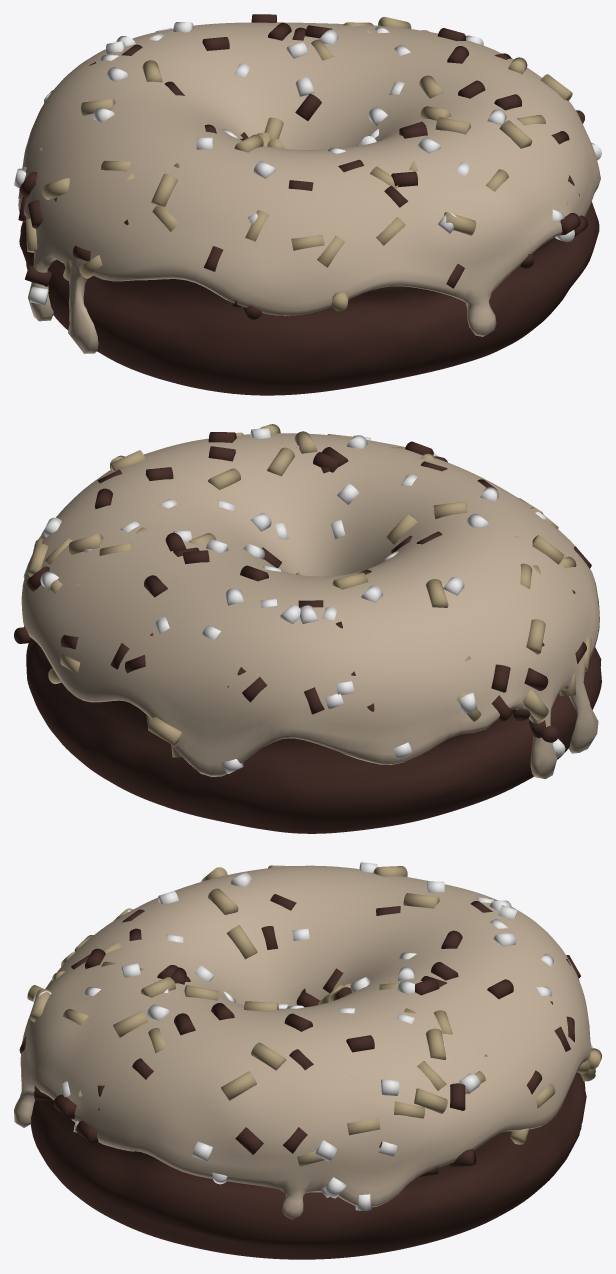
Rendered from donutBlend.gltf.
3 views of the same model, one above another, from view 1: azimuth 30°, elevation 25°; view 2: azimuth 150°, elevation 25°; view 3: azimuth 270°, elevation 25° (orthographic). The views are drawn at different scales.
Visible parts, largest first — view 1: icing_Torus.003, Donut_Torus.002, Cylinder.062; view 2: icing_Torus.003, Donut_Torus.002, Cylinder.119; view 3: icing_Torus.003, Donut_Torus.002, Cylinder.194, Cylinder.020, Cylinder.245.
Part boxes in pixels (x1,y1,x2,y2): icing_Torus.003: [18, 22, 600, 353]; Donut_Torus.002: [19, 202, 599, 395]; Cylinder.062: [151, 173, 177, 206]; icing_Torus.003: [21, 433, 599, 778]; Donut_Torus.002: [26, 642, 601, 833]; Cylinder.119: [148, 716, 181, 746]; icing_Torus.003: [14, 865, 595, 1219]; Donut_Torus.002: [30, 1072, 586, 1259]; Cylinder.194: [221, 1071, 256, 1100]; Cylinder.020: [414, 1088, 447, 1113]; Cylinder.245: [251, 1042, 286, 1070].
Size of the model in its own units: 10.96 by 4.61 by 10.6.
